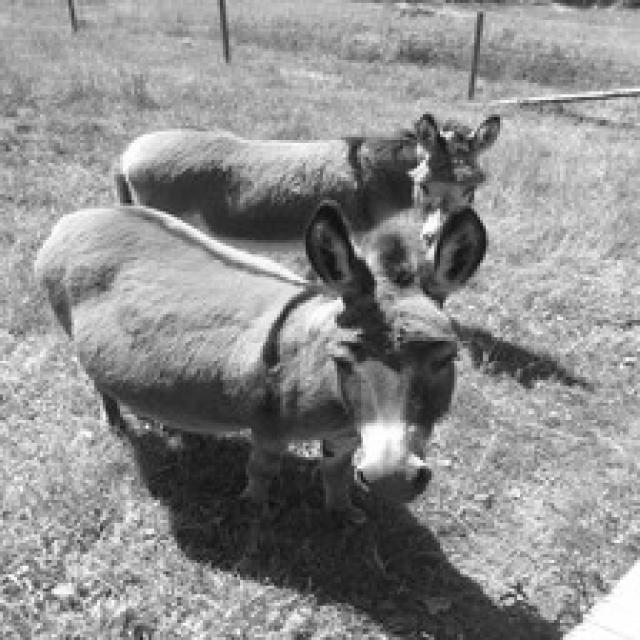Donkey: (31, 197, 486, 523), (109, 108, 500, 245)
